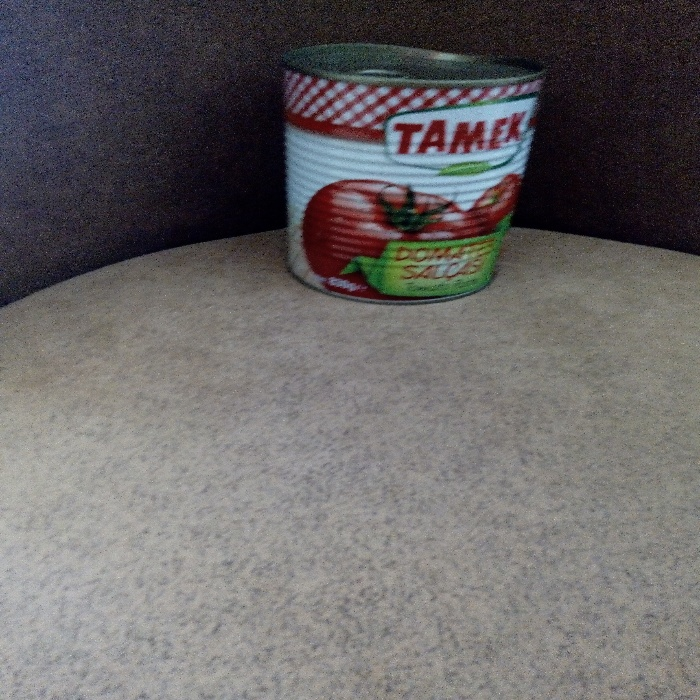salca: (267, 19, 559, 309)
